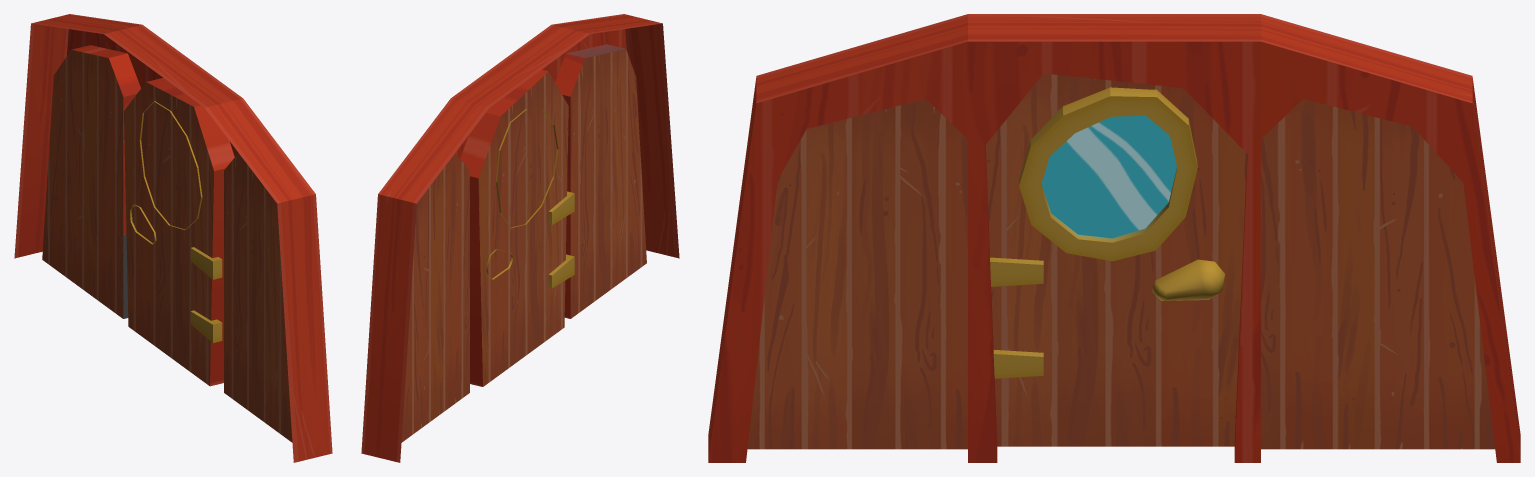
Rendered from door.fbx.
3 views of the same model, side by side, from view 1: azimuth 30°, elevation 25°; view 2: azimuth 150°, elevation 25°; view 3: azimuth 270°, elevation 25° (orthographic). The views are drawn at different scales.
Visible parts, largest first — view 1: pCube5; view 2: pCube5; view 3: pCube5.
Part boxes in pixels (x1=…): pCube5: x1=14, y1=14, x2=332, y2=462; pCube5: x1=361, y1=14, x2=679, y2=462; pCube5: x1=708, y1=14, x2=1520, y2=462.
Bounding box in the file's own units: 1 × 7.14 × 12.47.
